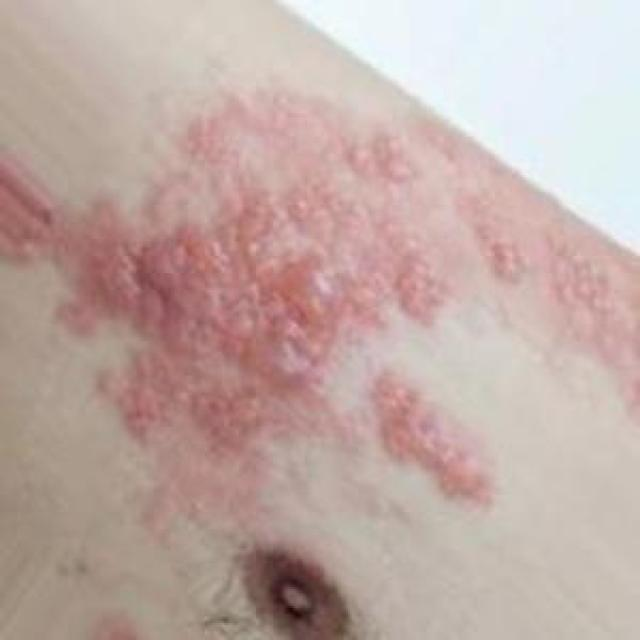Shingles: (49, 94, 640, 510)
